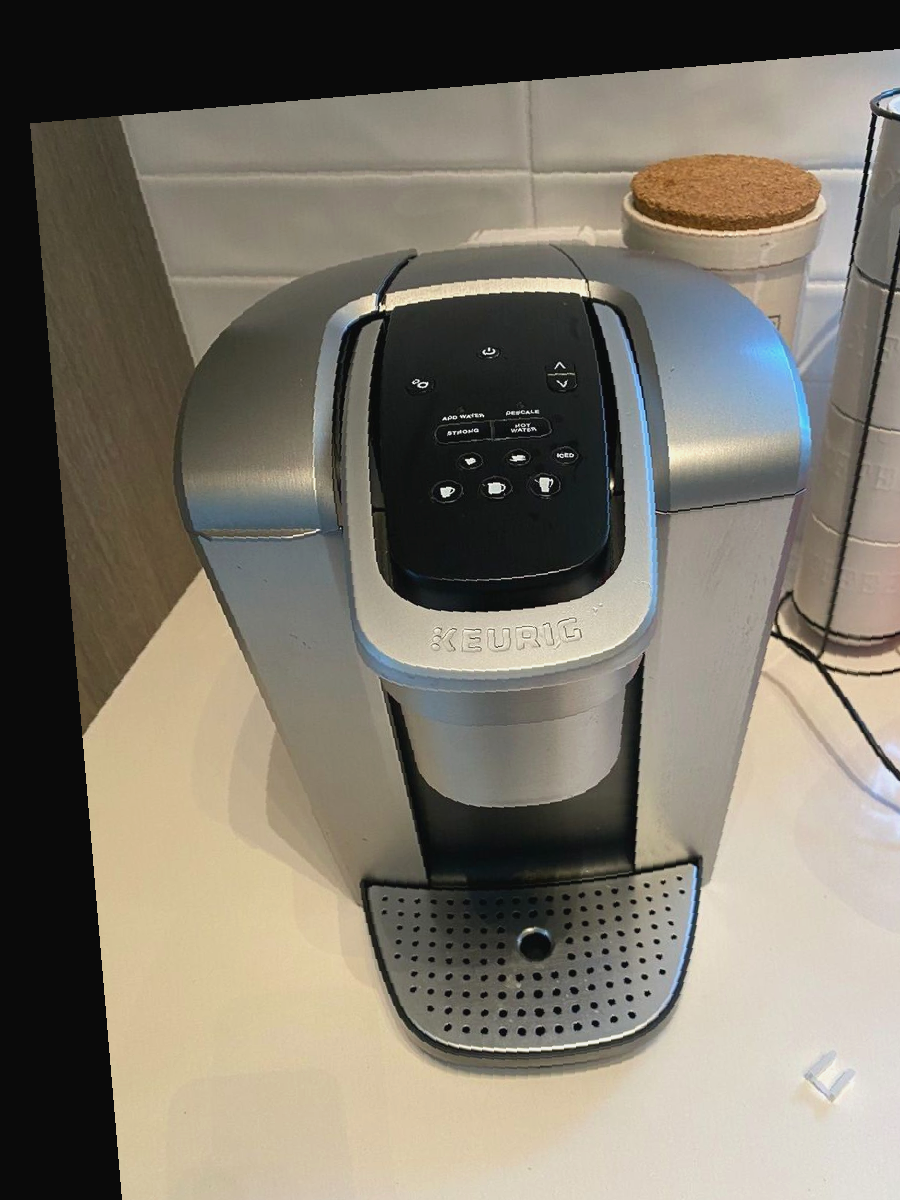10oz: (474, 474, 518, 504)
12oz: (522, 468, 567, 503)
4oz: (451, 450, 486, 472)
6oz: (500, 448, 535, 470)
8oz: (427, 477, 465, 507)
add_water: (437, 401, 488, 424)
descale: (493, 396, 544, 420)
hot: (491, 417, 553, 442)
iced: (551, 444, 583, 468)
power: (467, 340, 509, 366)
strong: (438, 421, 489, 445)
